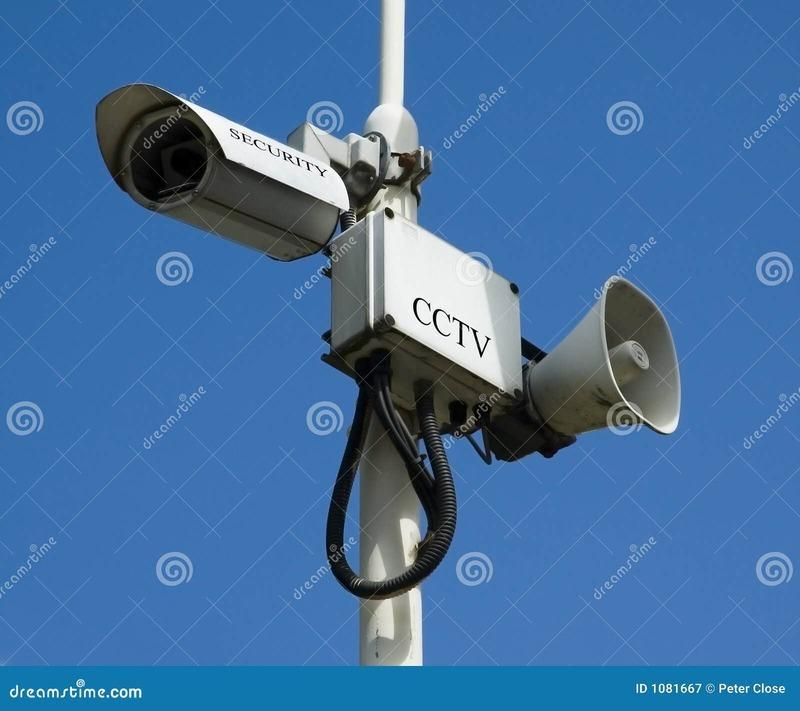bullet: (128, 51, 385, 201)
